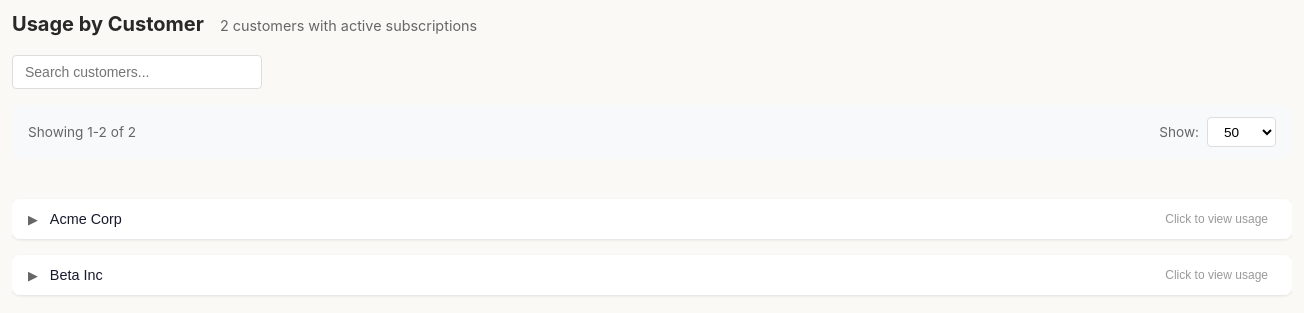
Test: CustomerUsageView › Accessibility › should have no accessibility violations when no search results
In the field with placeholder "Search customers...": (137, 72) [12,55,262,89], type "nonexistent"
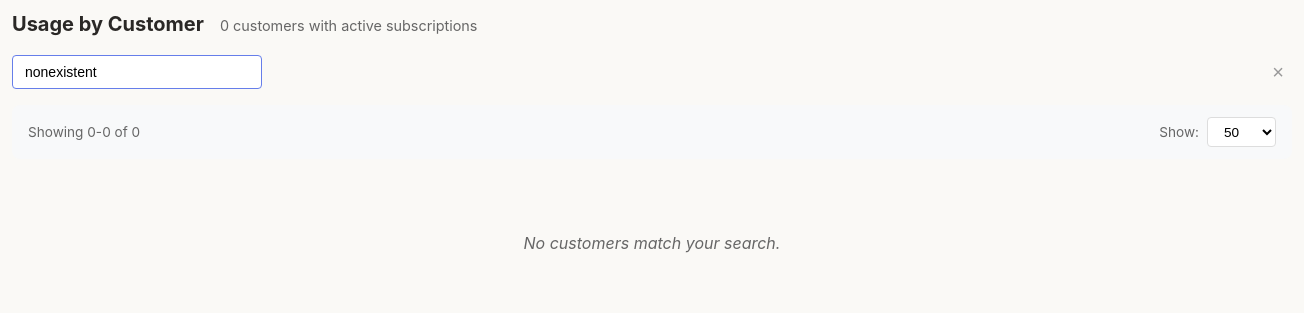
Result: the text "No customers match your search." is shown at [524,233,780,253]
